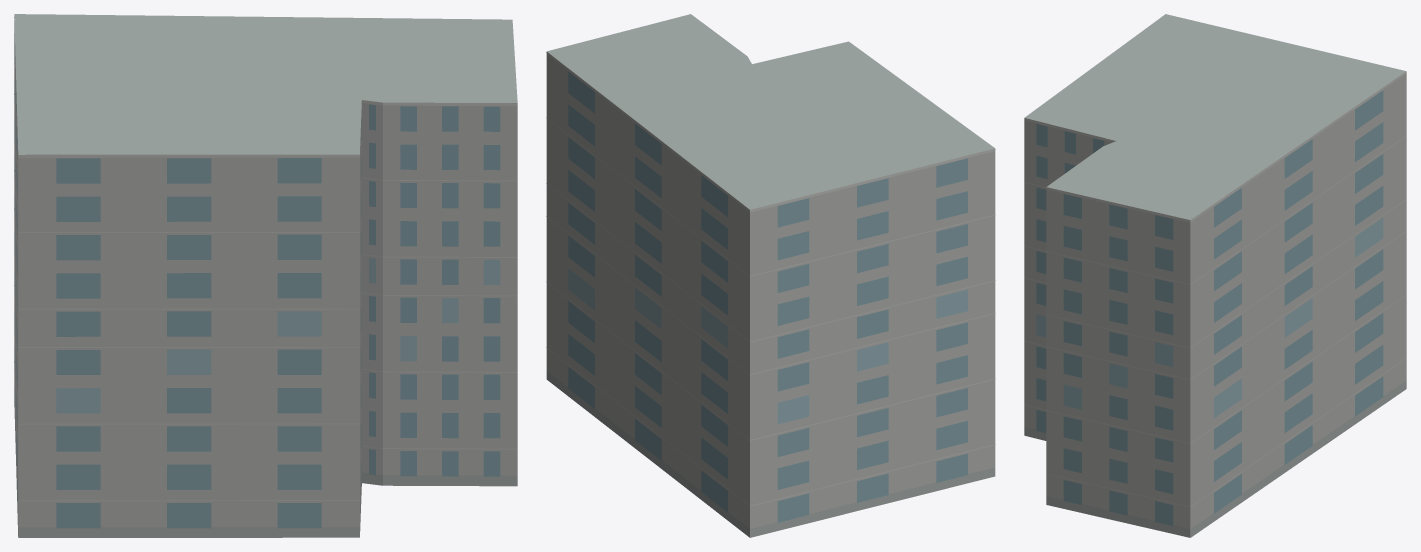
Rendered from residential-354be135-792c-498a-a372-1a3864f511c7.glb.
The picture shows the model from 3 angles, left to right: view 1: azimuth 30°, elevation 25°; view 2: azimuth 150°, elevation 25°; view 3: azimuth 270°, elevation 25°; orthographic projection. The views are drawn at different scales.
Visible parts, largest first — view 1: residential-354be135-792c-498a-a372-1a3864f511c7.tmp; view 2: residential-354be135-792c-498a-a372-1a3864f511c7.tmp; view 3: residential-354be135-792c-498a-a372-1a3864f511c7.tmp.
Part boxes in pixels (x1,y1,x2,y2): residential-354be135-792c-498a-a372-1a3864f511c7.tmp: [14, 14, 517, 537]; residential-354be135-792c-498a-a372-1a3864f511c7.tmp: [546, 14, 995, 537]; residential-354be135-792c-498a-a372-1a3864f511c7.tmp: [1024, 14, 1406, 537].
Bounding box in the file's own units: 42.45 × 30.5 × 33.28.
